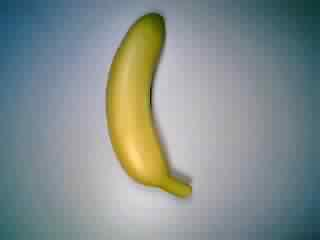banana: (98, 10, 203, 200)
